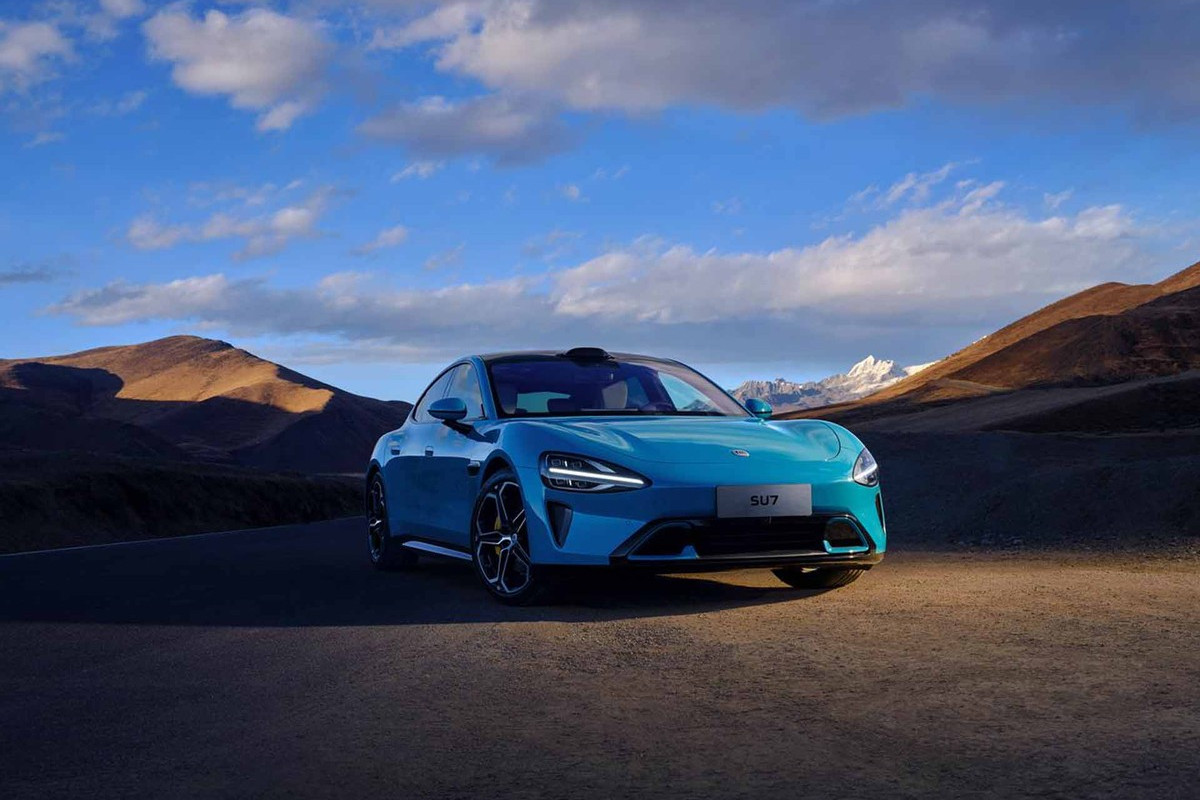su7: (374, 346, 885, 587)
